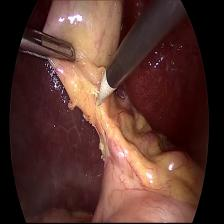Grasper: (18, 31, 82, 62)
Hook: (94, 68, 115, 116)
